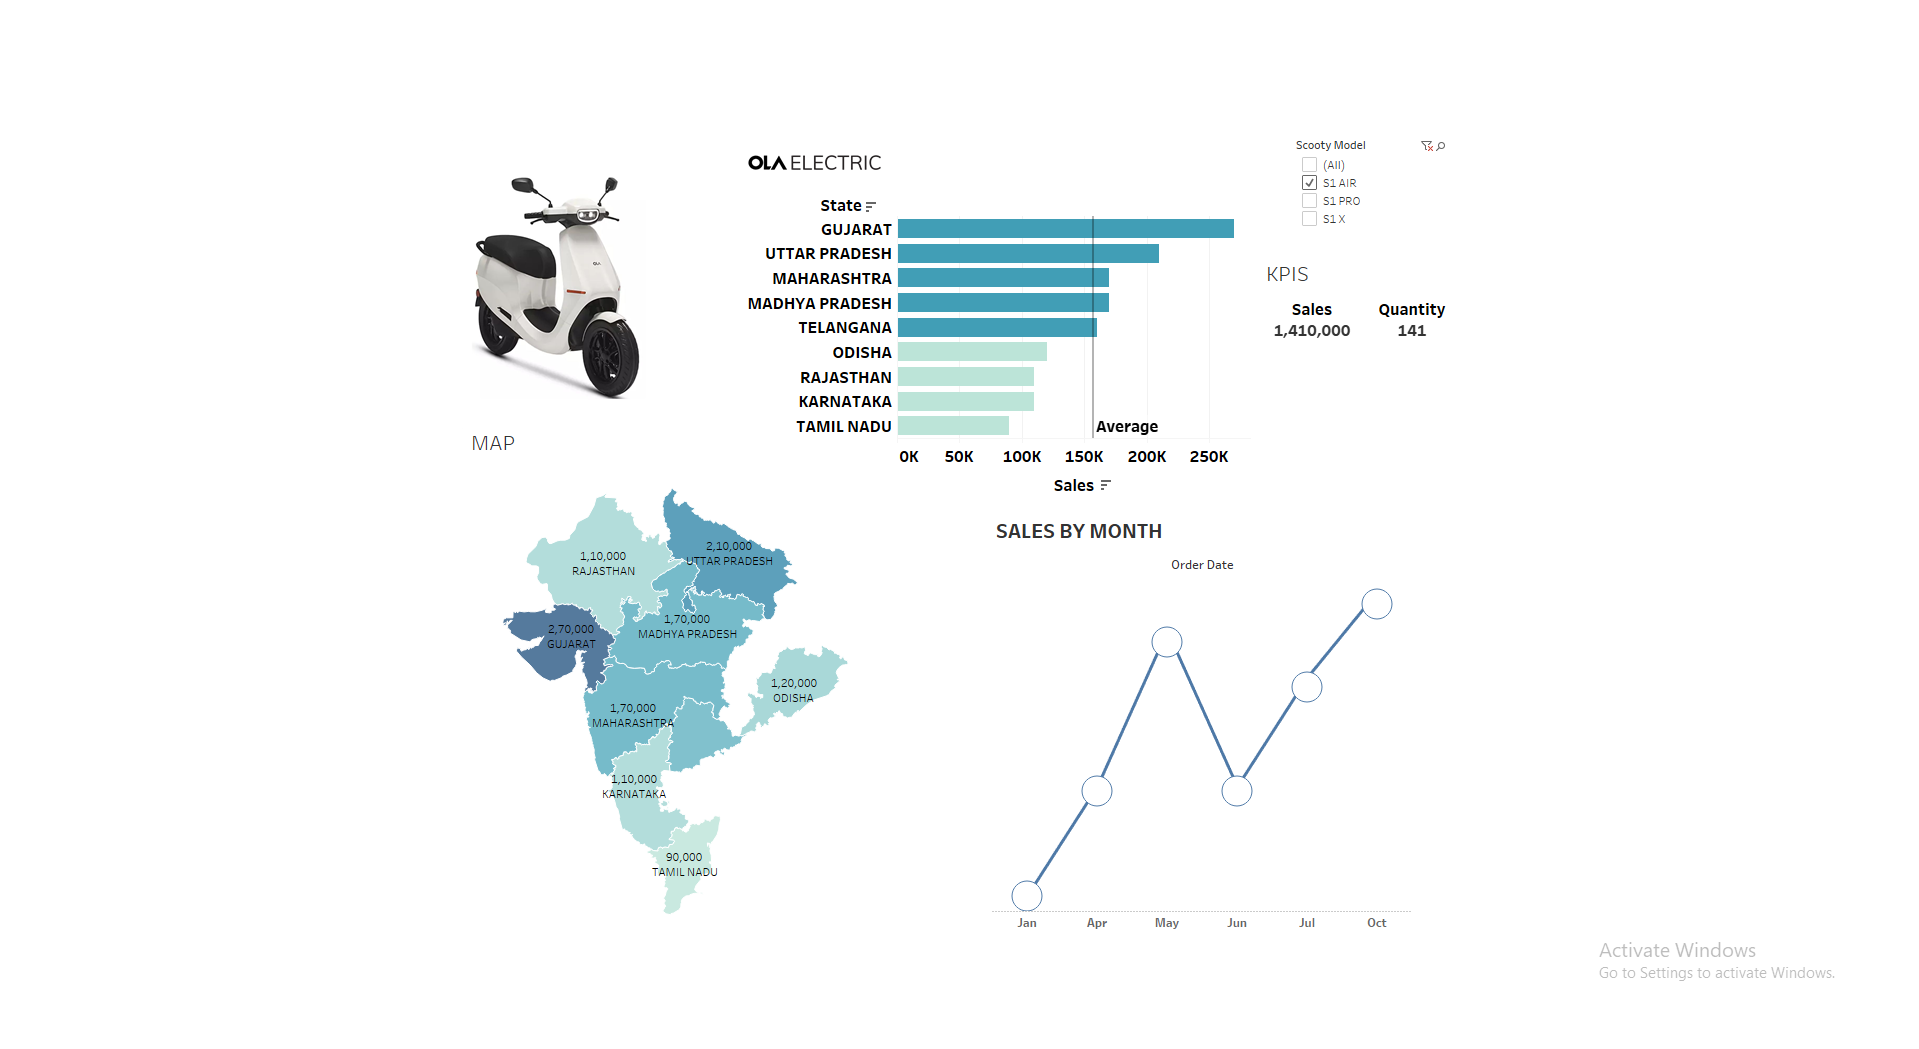

This screenshot's page, from the dashboard's own definition file:
{"tool":"tableau","page":{"name":"s1 air ","canvas":[1000,800],"ordinal":7},"visuals":[{"type":"image","param":"C:/Users/vivek/Downloads/_1223_63dbfb73b7ed4f3efdf76a7d_yq4PqPLfwDuMjZJ4fP8AAM3C","box":[251,3,280,69]},{"type":"filter","title":"MAP","param":"[federated.1mmcmp41y9jbkz169drmq1uvdi5i].[none:SCOOTY MODEL:nk]","box":[832,8,160,102]},{"type":"image","param":"C:/Users/vivek/Downloads/afdb40535f78782d7b580e739895c124.jpg","box":[2,14,256,290]},{"type":"worksheet","title":"Sheet 6","mark":"Automatic","rows":["STATE"],"cols":["SALES"],"box":[277,56,514,322]},{"type":"worksheet","title":"KPIS","mark":"Automatic","box":[802,130,200,138]},{"type":"image","param":"C:/Users/vivek/OneDrive/Pictures/Screenshots/Screenshot 2025-02-09 200203.png","box":[59,284,204,25]}]}

Visuals, with their boxes on the page's 1000x800 design canvas (x1, y1, x2, y2). These are canvas units, not pixel positions in the 1919x1049 screenshot, which may show the page scaled, cropped or inside an application window:
image: {"left": 251, "top": 3, "right": 531, "bottom": 72}
"MAP" filter: {"left": 832, "top": 8, "right": 992, "bottom": 110}
image: {"left": 2, "top": 14, "right": 258, "bottom": 304}
"Sheet 6" worksheet: {"left": 277, "top": 56, "right": 791, "bottom": 378}
"KPIS" worksheet: {"left": 802, "top": 130, "right": 1002, "bottom": 268}
image: {"left": 59, "top": 284, "right": 263, "bottom": 309}
